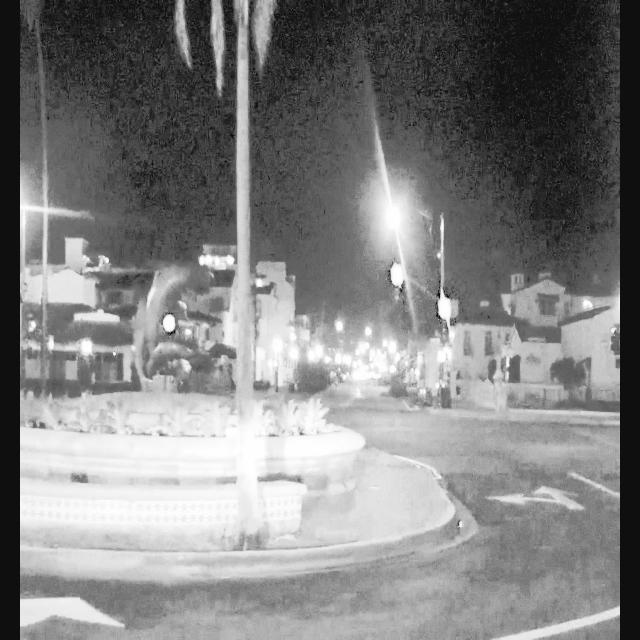Tree: (196, 0, 279, 550)
